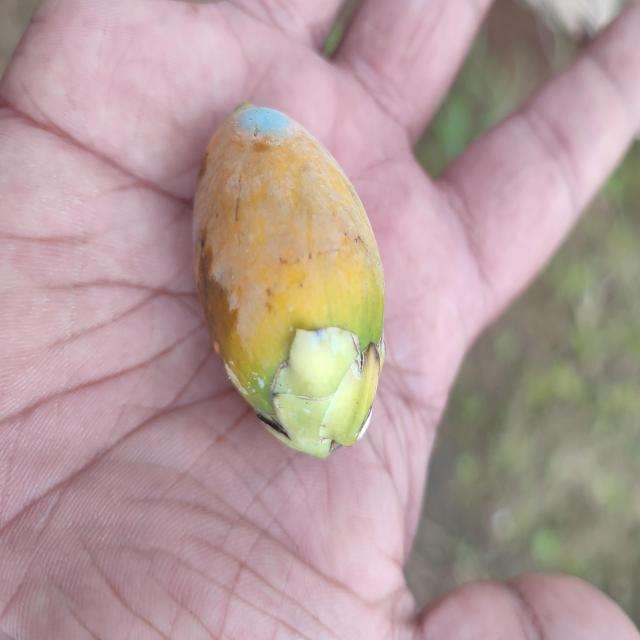good: (191, 104, 386, 460)
